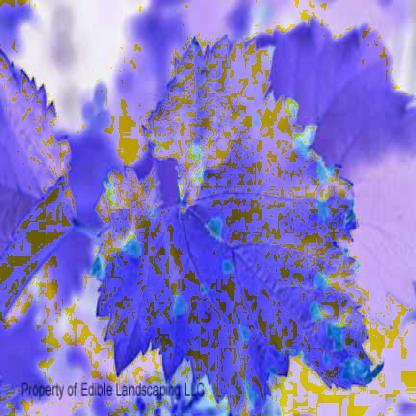grape leaf: (75, 29, 386, 402)
